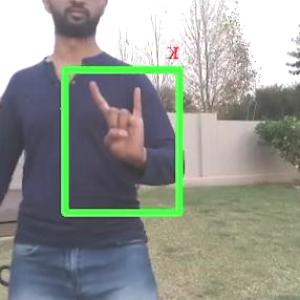takeoff-hand: (83, 74, 153, 178)
